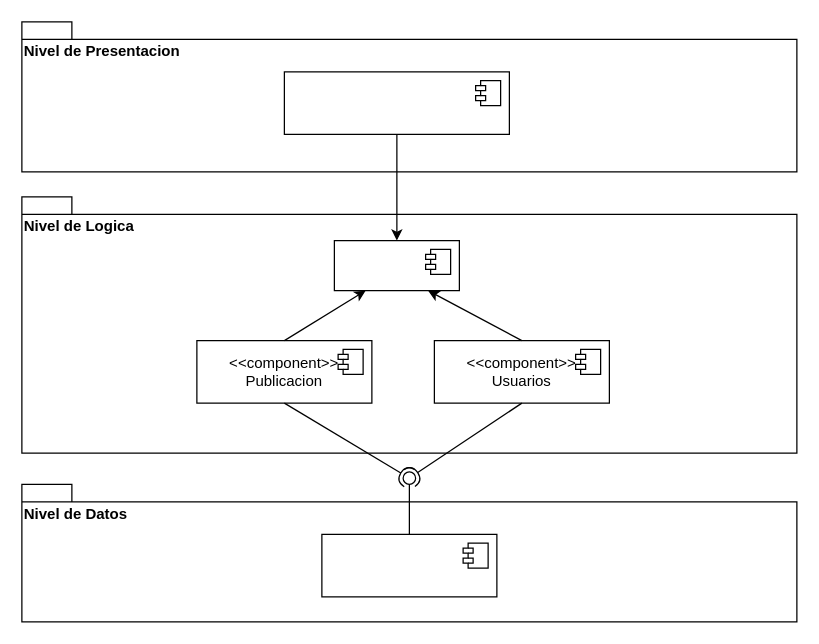
Some shapes in this 819 by 644 pixel diagram are drawn without their labels. Here are the shapes that lost their labels. From the top down, the centre of each, then its label:
At point 396,102: "Interfaz Usuario".
At point 396,265: "Api Ghost".
At point 409,565: "SqLite".
